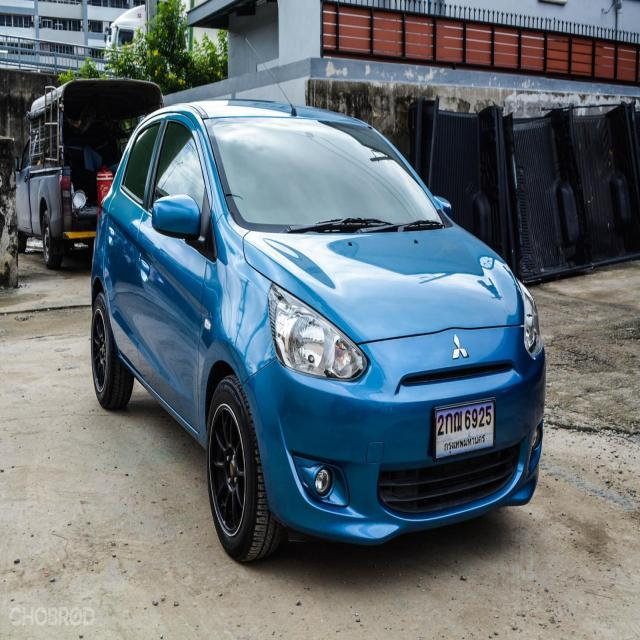license_plate: (432, 394, 497, 463)
